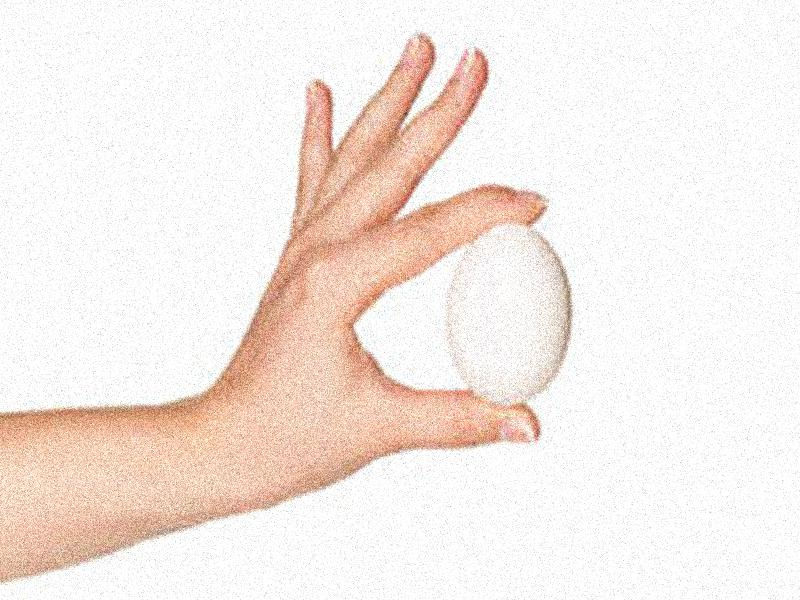Eggs: (445, 221, 574, 405)
